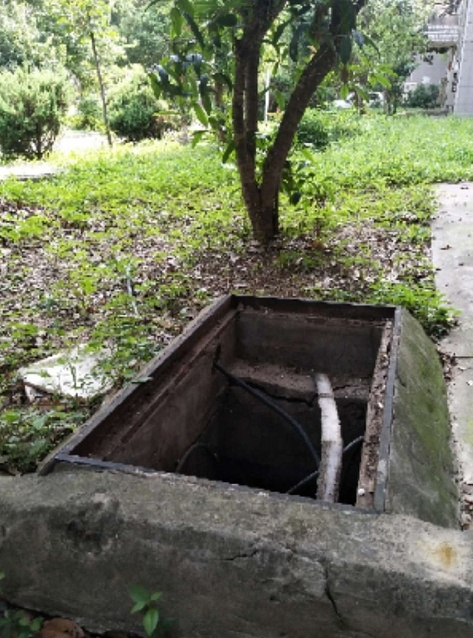lose: (38, 291, 404, 514)
